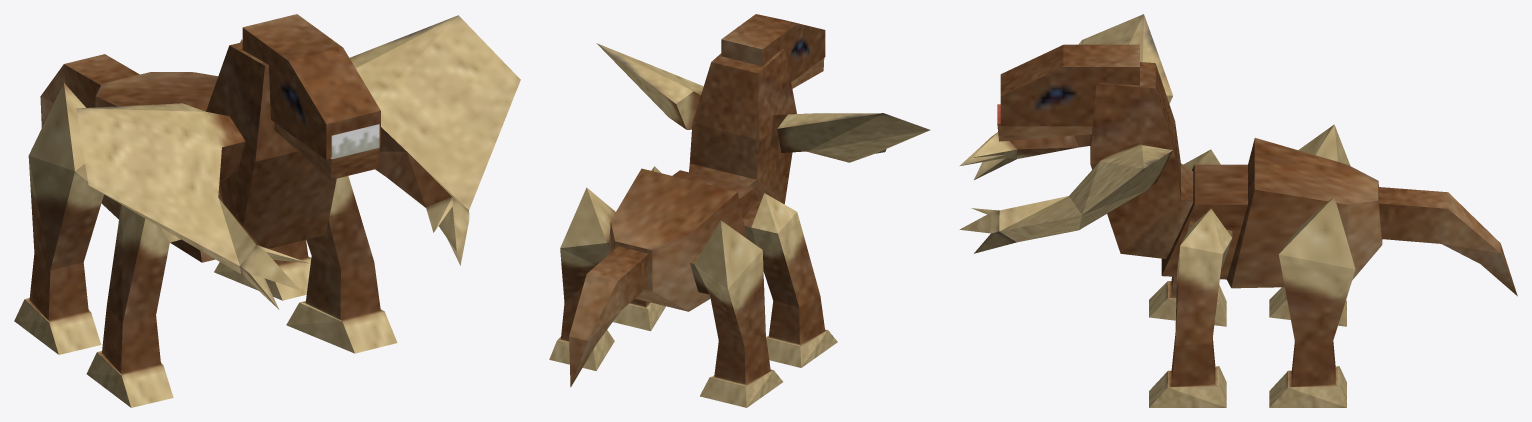
Rendered from zoataur.obj.
3 renders of one model, left to right at view 1: azimuth 30°, elevation 25°; view 2: azimuth 150°, elevation 25°; view 3: azimuth 270°, elevation 25°, orthographic. The views are drawn at different scales.
Visible parts, largest first — view 1: LeftArm, RightArm, BackRightLeg, Neck, Head, FrontRightLeg, FrontLeftLeg, Body, Mouth, Tail, BackLeftLeg; view 2: Body, Neck, BackRightLeg, FrontRightLeg, RightArm, Tail, BackLeftLeg, Head, LeftArm, FrontLeftLeg, Mouth; view 3: Body, BackLeftLeg, Neck, FrontLeftLeg, Head, LeftArm, Tail, RightArm, BackRightLeg, FrontRightLeg, Mouth.
Boxes of the visible parts, x1,y1,x2,y2 form: LeftArm: (349, 15, 520, 265); RightArm: (76, 103, 308, 309); BackRightLeg: (14, 83, 103, 354); Neck: (206, 42, 336, 248); Head: (242, 14, 380, 159); FrontRightLeg: (86, 204, 180, 407); FrontLeftLeg: (286, 176, 397, 353); Body: (95, 72, 218, 262); Mouth: (274, 122, 379, 179); Tail: (40, 54, 139, 127); BackLeftLeg: (214, 39, 311, 300); Body: (608, 168, 758, 311); Neck: (689, 49, 796, 204); BackRightLeg: (690, 220, 782, 407); FrontRightLeg: (743, 193, 837, 367); RightArm: (770, 113, 930, 162); Tail: (569, 246, 648, 387); BackLeftLeg: (549, 187, 615, 370); Head: (721, 14, 825, 81); LeftArm: (596, 43, 703, 129); FrontLeftLeg: (613, 166, 665, 331); Mouth: (791, 58, 824, 88); Body: (1161, 138, 1382, 288); BackLeftLeg: (1269, 196, 1355, 407); Neck: (1090, 62, 1193, 258); FrontLeftLeg: (1149, 208, 1232, 407); Head: (1000, 44, 1139, 126); LeftArm: (959, 143, 1172, 253); Tail: (1379, 187, 1517, 296); RightArm: (959, 14, 1172, 179); BackRightLeg: (1269, 124, 1350, 326); FrontRightLeg: (1149, 149, 1226, 326); Mouth: (997, 104, 1092, 141).
Size of the model in its own units: 3.79 by 3.02 by 5.11.
